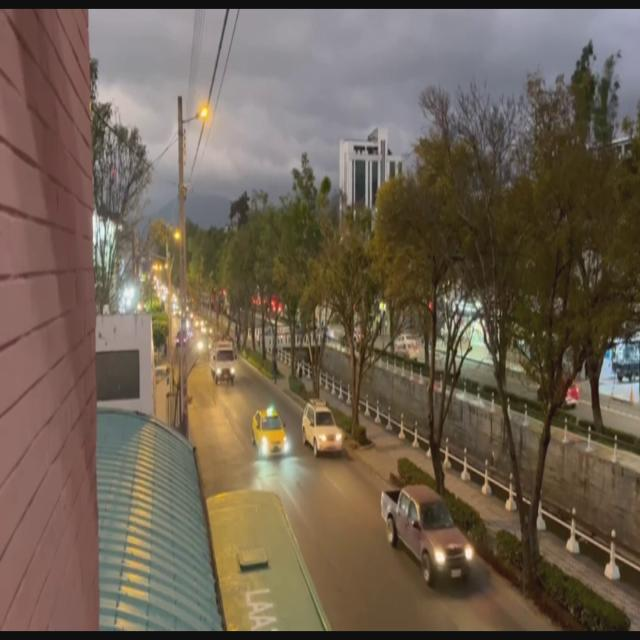CMT: (382, 491, 472, 583)
SED: (256, 413, 288, 455)
SUV: (304, 402, 342, 452)
TRUCK: (212, 340, 234, 384)
